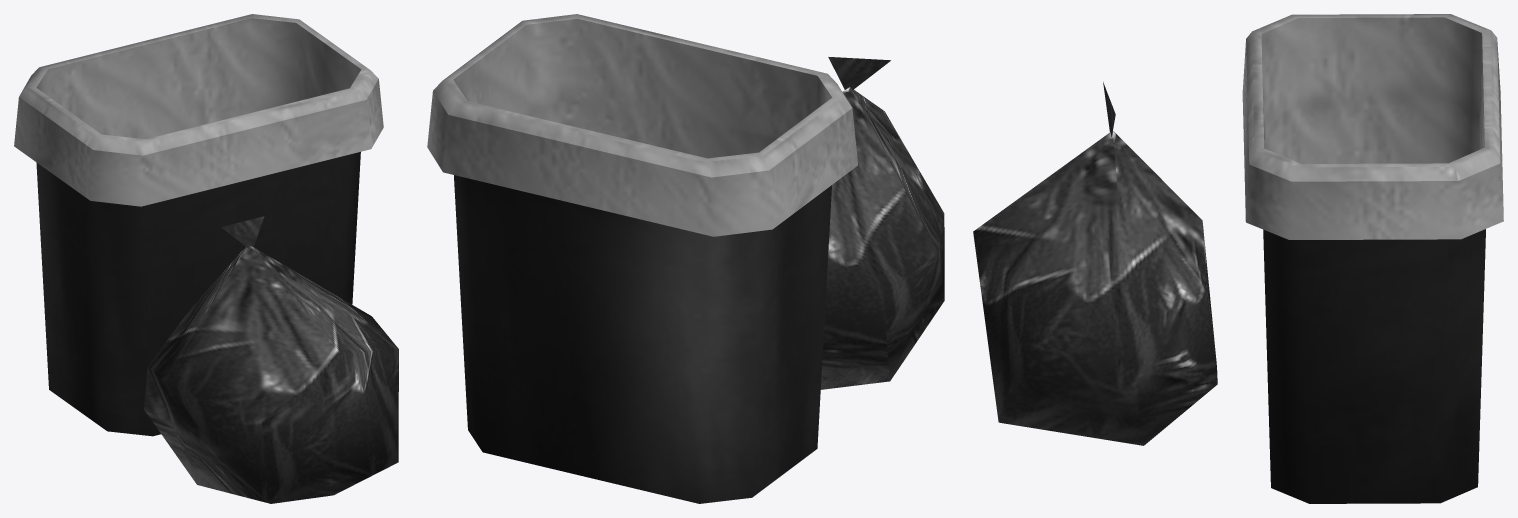
Rendered from trashfull.glb.
3 renders of one model, left to right at view 1: azimuth 30°, elevation 25°; view 2: azimuth 150°, elevation 25°; view 3: azimuth 270°, elevation 25°, orthographic. The views are drawn at different scales.
Parts seen in each view (by area): view 1: Trash_can_empty, Garbage_bag; view 2: Trash_can_empty, Garbage_bag; view 3: Trash_can_empty, Garbage_bag.
Part boxes in pixels (<box>): Trash_can_empty: <box>14,14,383,436</box>; Garbage_bag: <box>144,216,398,503</box>; Trash_can_empty: <box>427,14,857,503</box>; Garbage_bag: <box>820,57,944,389</box>; Trash_can_empty: <box>1242,14,1503,503</box>; Garbage_bag: <box>973,82,1217,445</box>.
Bounding box in the file's own units: 1.4 × 1.46 × 1.9.
2 materials, 2 textured.
